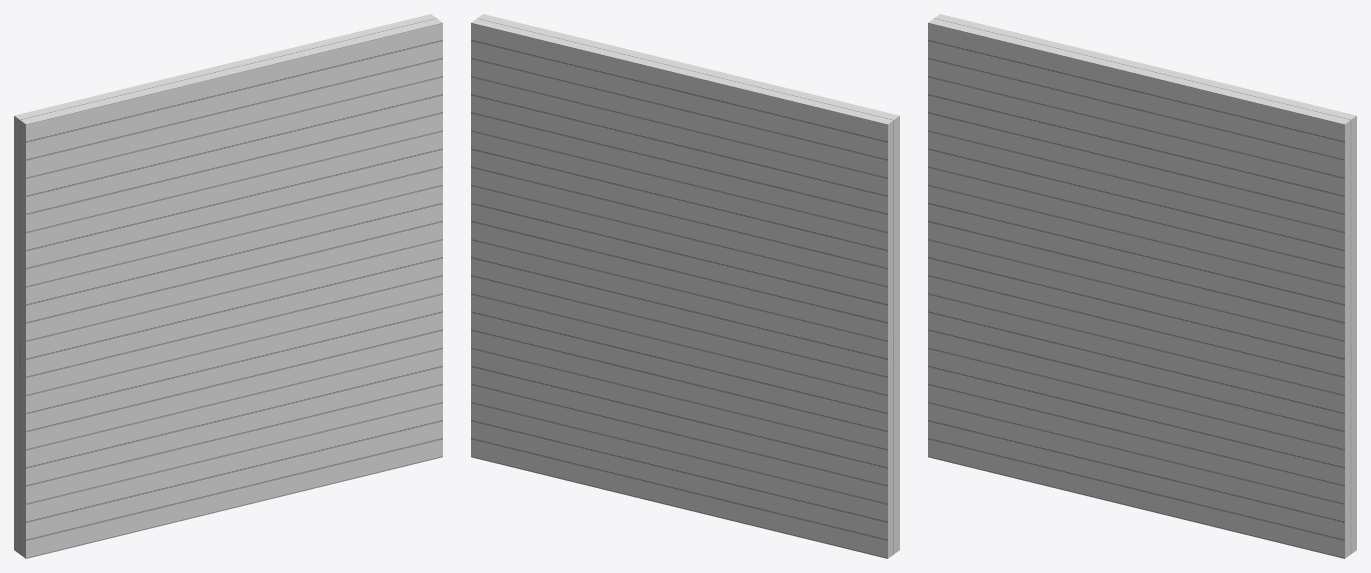
The model's file is wall-1.glb.
3 renders of one model, left to right at view 1: azimuth 30°, elevation 25°; view 2: azimuth 150°, elevation 25°; view 3: azimuth 330°, elevation 25°, orthographic.
Visible parts, largest first — view 1: Wall; view 2: Wall; view 3: Wall.
Boxes of the visible parts, x1=… form: Wall: x1=14, y1=14, x2=442, y2=558; Wall: x1=471, y1=14, x2=899, y2=558; Wall: x1=928, y1=14, x2=1356, y2=558.
Bounding box in the file's own units: 2.52 × 2.51 × 0.126.
Materials: 1 (1 with a texture image).
